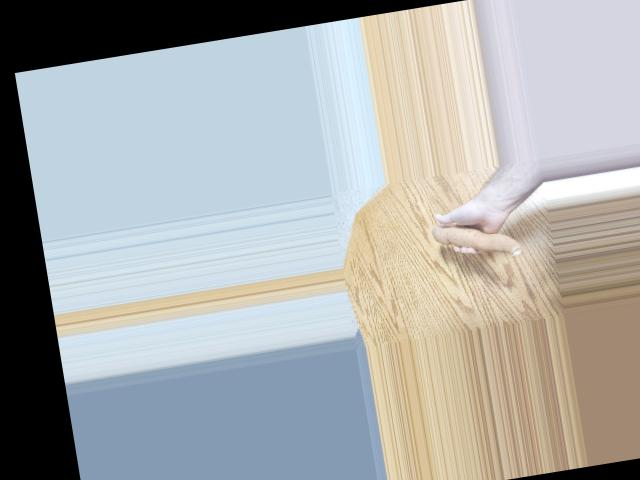sweet_potato: (430, 212, 525, 267)
